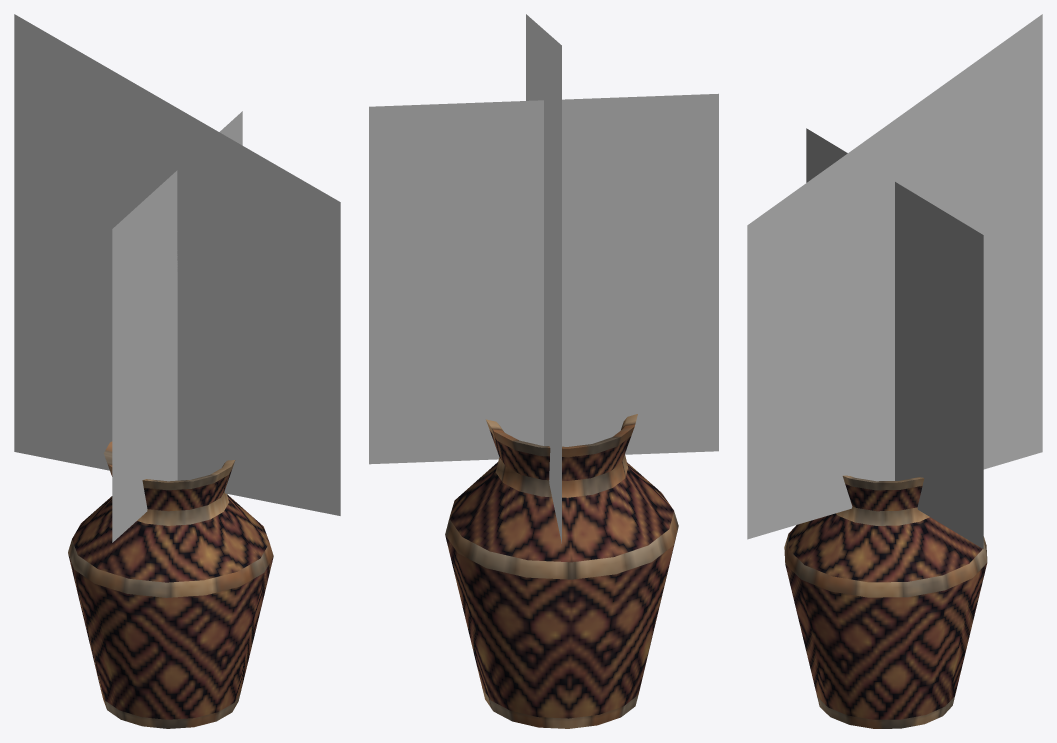
File: plant_03.fbx
The picture shows the model from 3 angles, left to right: view 1: azimuth 30°, elevation 25°; view 2: azimuth 150°, elevation 25°; view 3: azimuth 270°, elevation 25°; orthographic projection. The views are drawn at different scales.
Visible parts, largest first — view 1: plant_03; view 2: plant_03; view 3: plant_03.
Part boxes in pixels (x1,y1,x2,y2): plant_03: (14, 14, 340, 728); plant_03: (369, 14, 718, 728); plant_03: (747, 14, 1042, 728).
Size of the model in its own units: 55.46 by 157 by 64.7.
